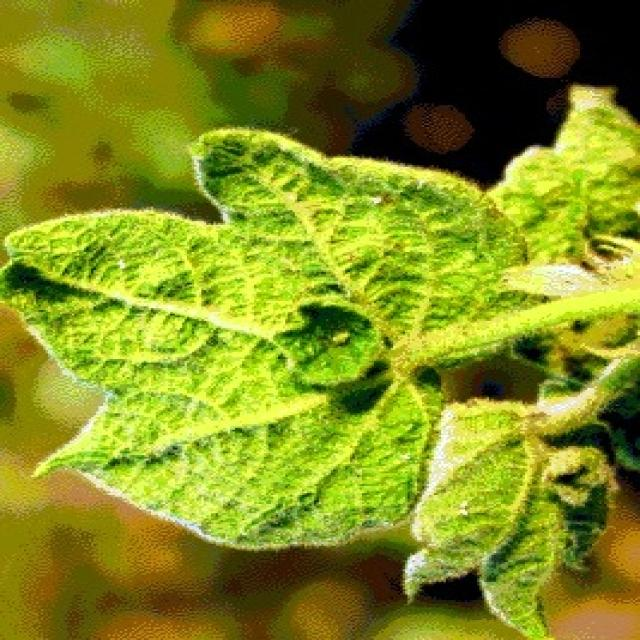Leaf Curl Virus: (32, 197, 587, 508)
